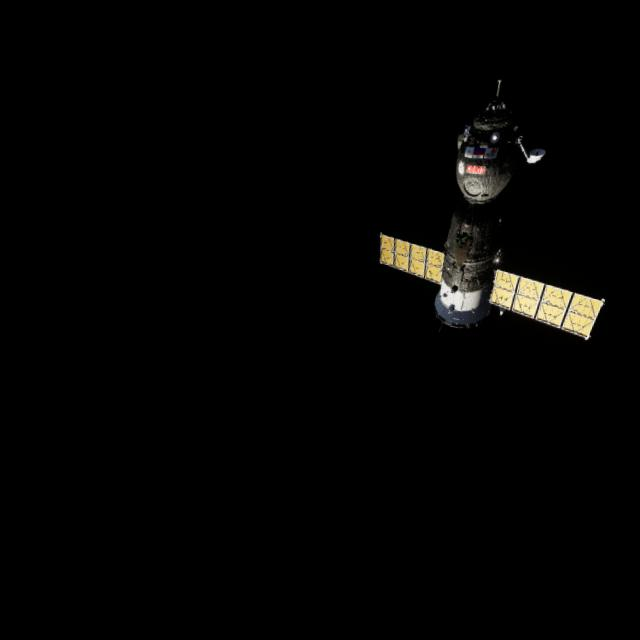Satellites revolving around earth: (361, 57, 640, 360)
